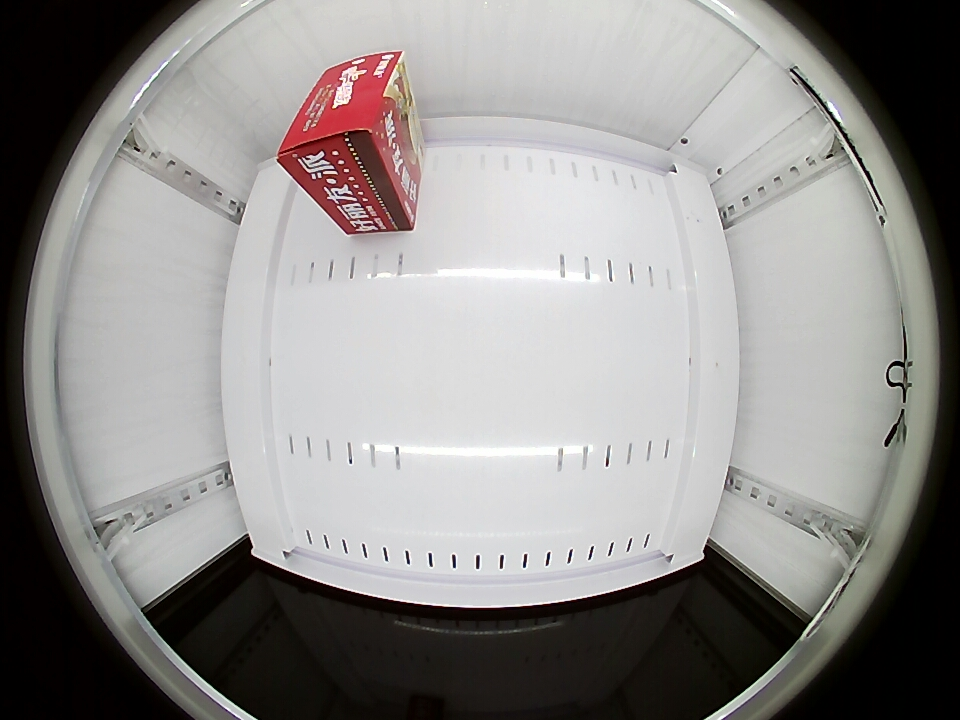haoliyou: (277, 50, 411, 203)
